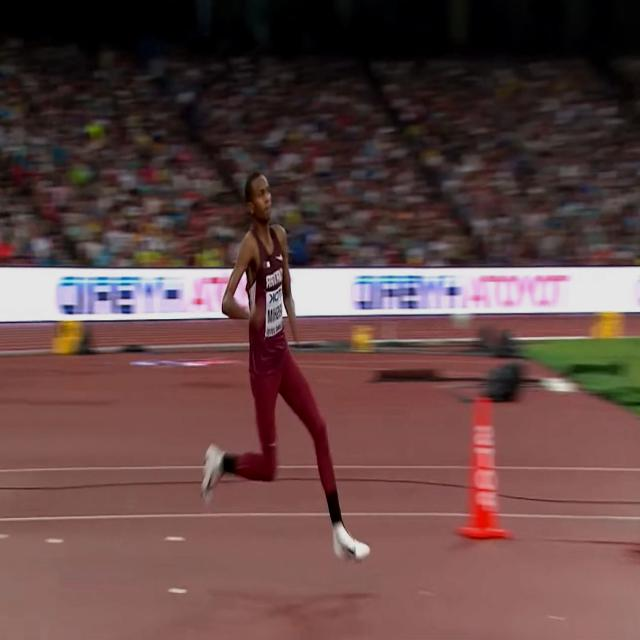run: (198, 167, 373, 568)
